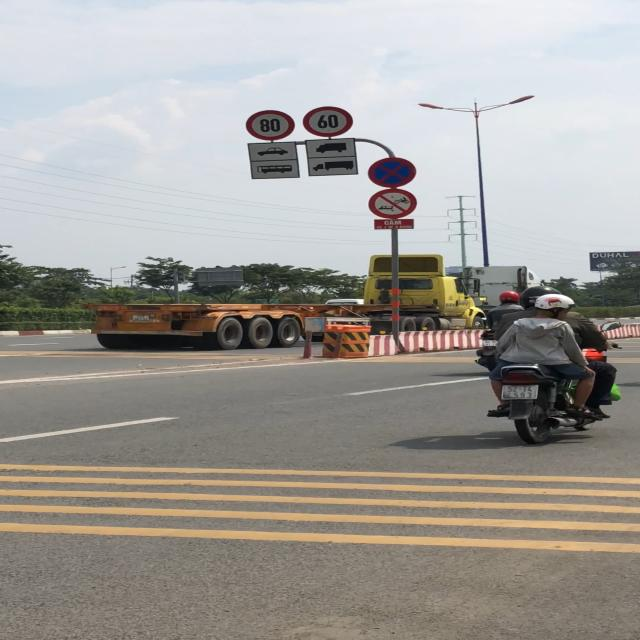Bien bao cam dung xe va do xe: (368, 156, 416, 188)
Bien bao toc do toi da cho phep: (302, 105, 357, 137), (244, 109, 296, 142)
